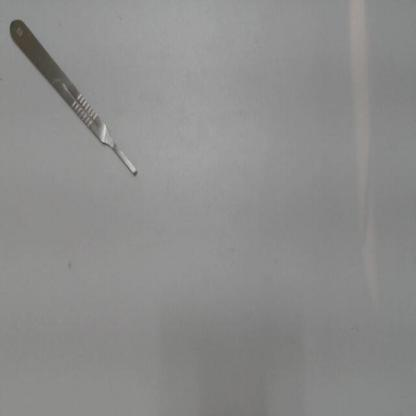No.4 BP Handle: (7, 10, 146, 190)
